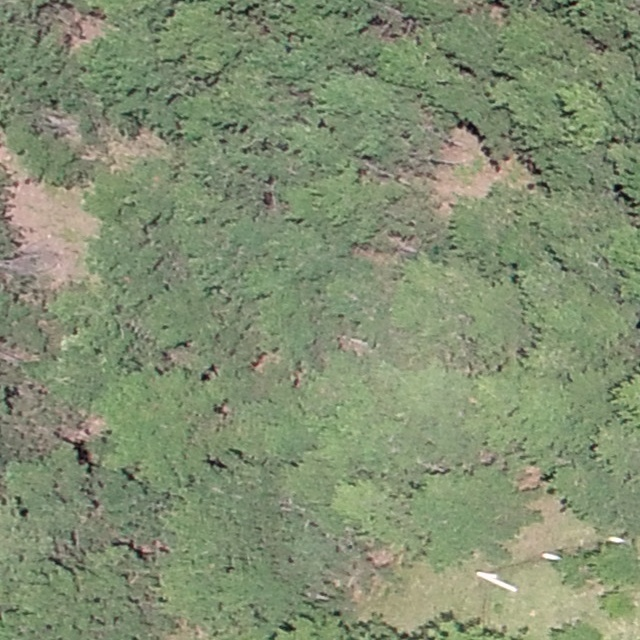unhealthy: (2, 234, 88, 297), (365, 6, 418, 42)
